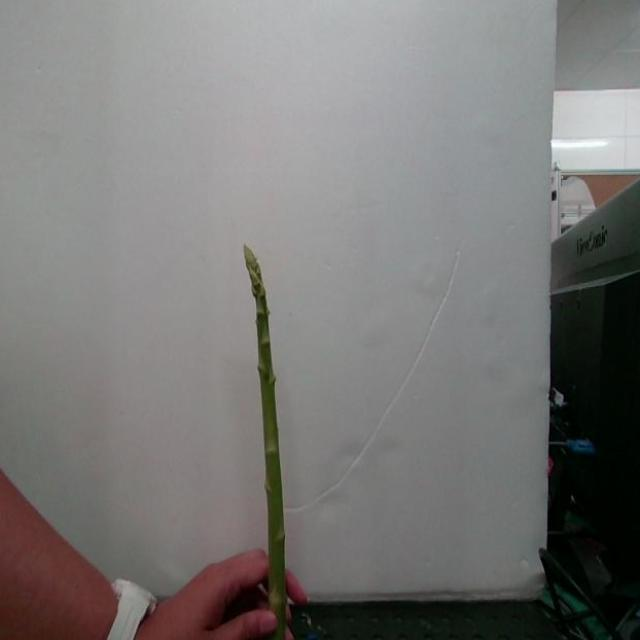aspargus: (241, 247, 292, 640)
